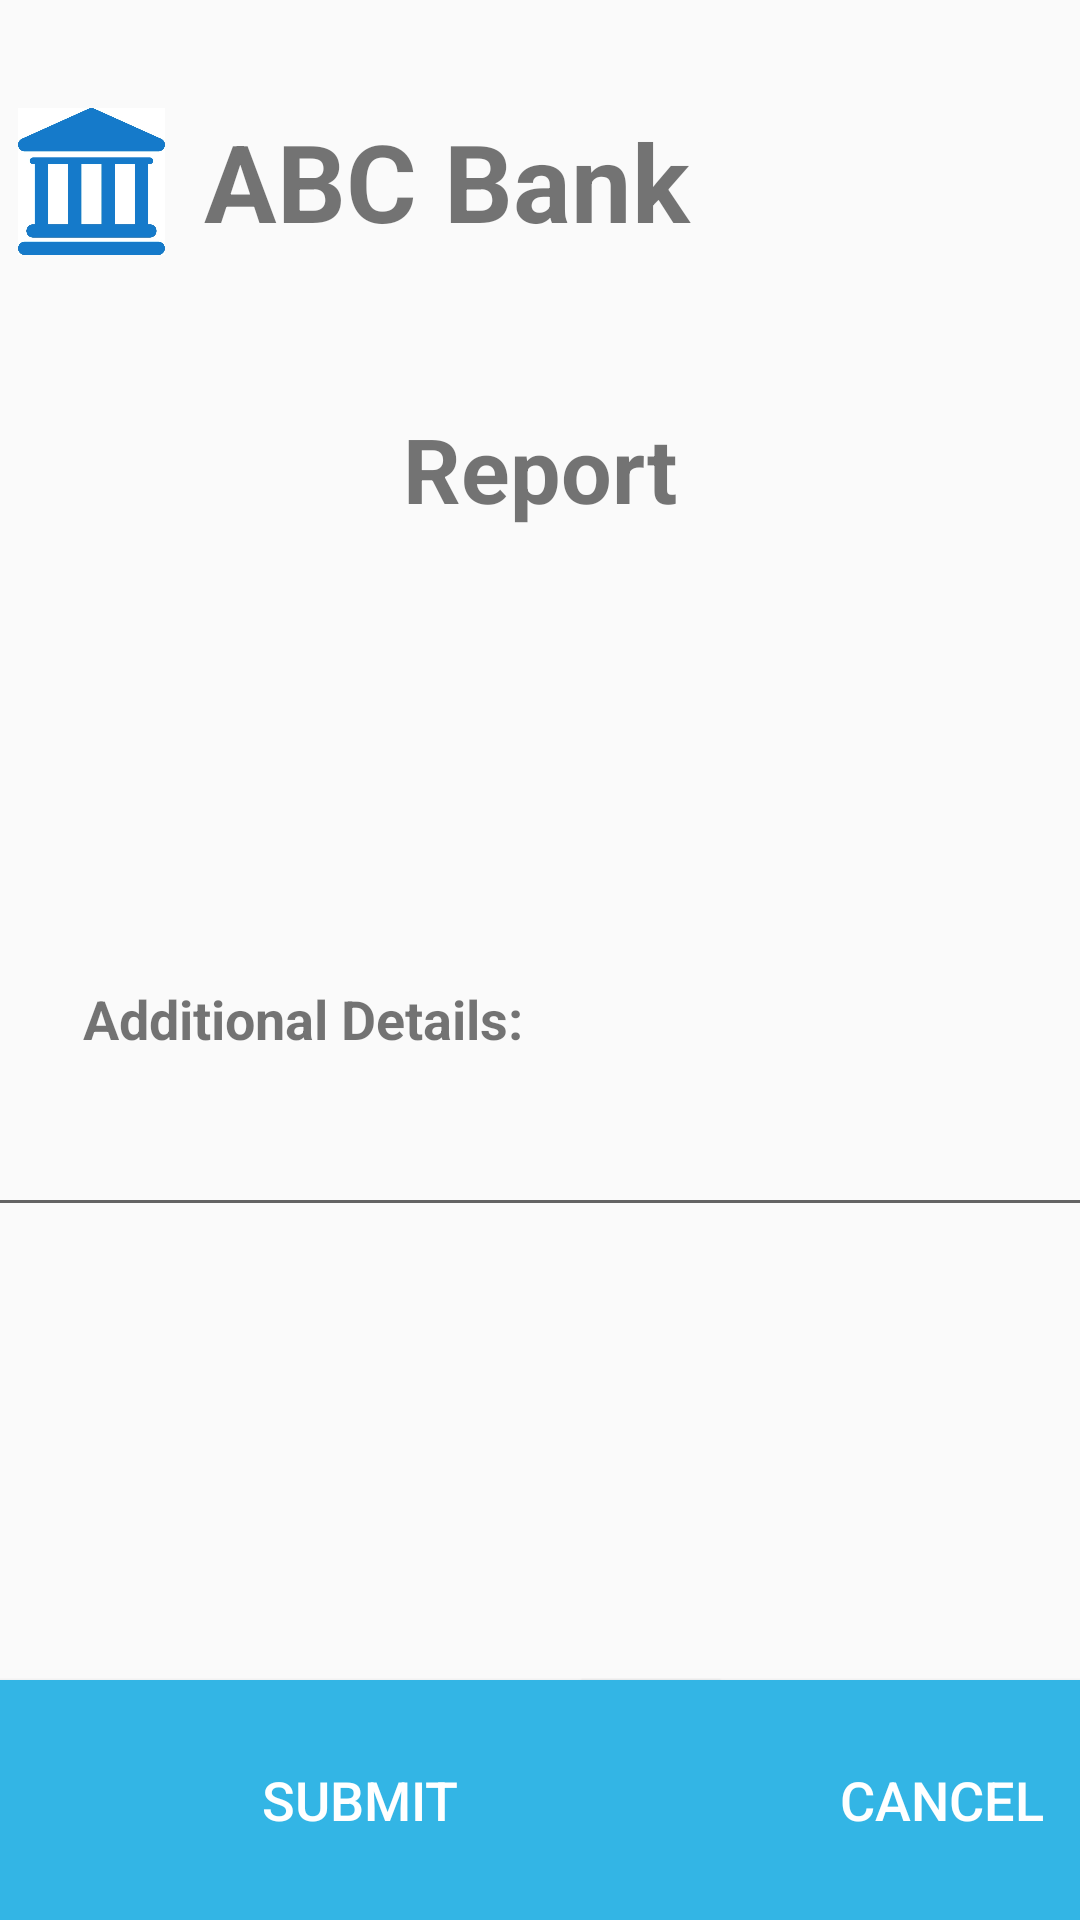

Icons on this 1080px×1920px Android screen, each with the point to tap as point (x, y):
bankicon: point (91, 181)
